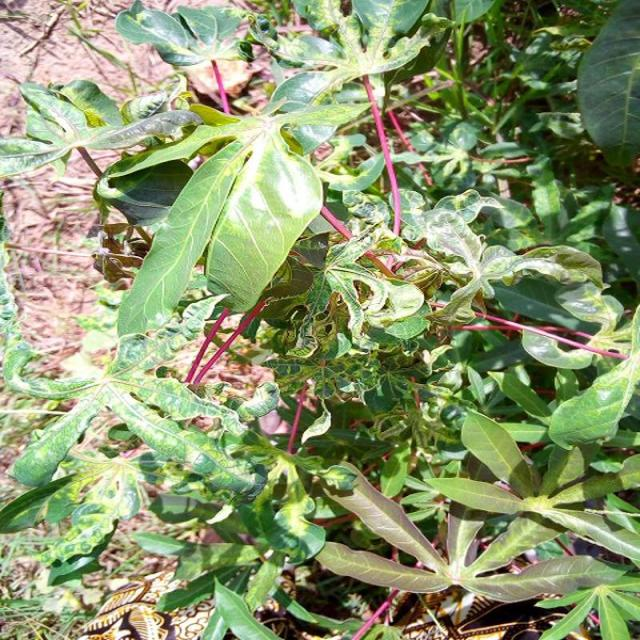Mosaico: (7, 335, 302, 487), (542, 269, 640, 443), (427, 181, 539, 321), (0, 72, 193, 149), (262, 216, 400, 323), (248, 11, 435, 82)
